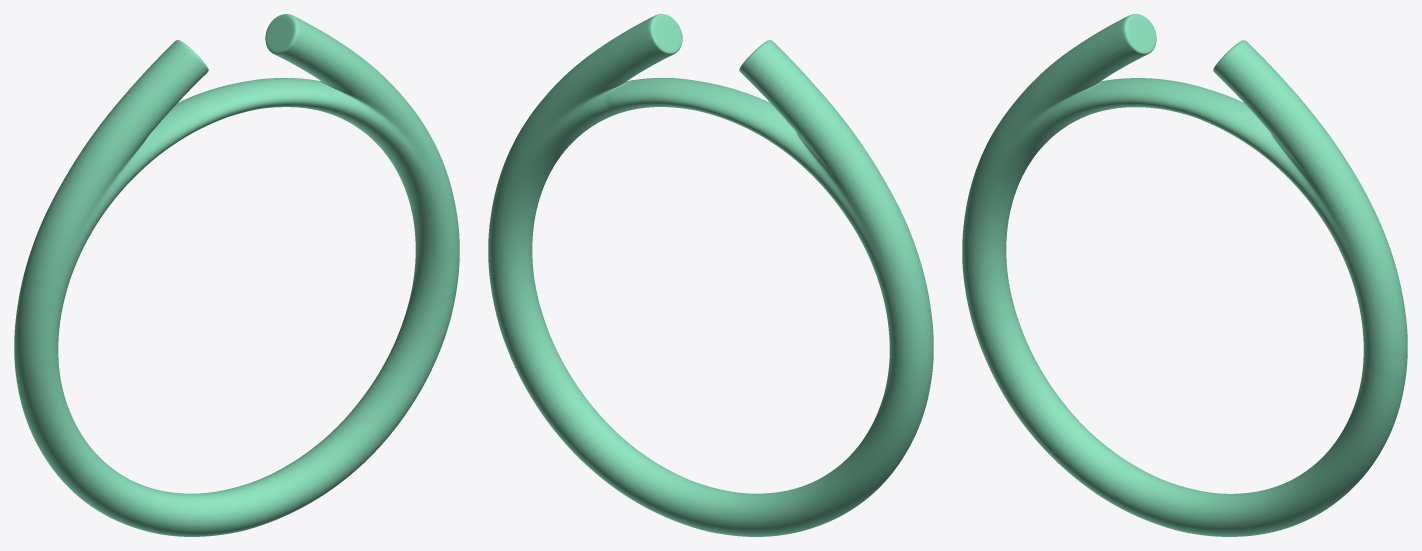
3 views of the same model, side by side, from view 1: azimuth 30°, elevation 25°; view 2: azimuth 150°, elevation 25°; view 3: azimuth 330°, elevation 25° (orthographic).
Parts seen in each view (by area): view 1: Metal02; view 2: Metal02; view 3: Metal02.
Boxes of the visible parts, x1,y1,x2,y2 form: Metal02: (14, 14, 459, 536); Metal02: (488, 14, 933, 536); Metal02: (962, 14, 1407, 536).
Bounding box in the file's own units: 20.87 × 22.73 × 1.99.
